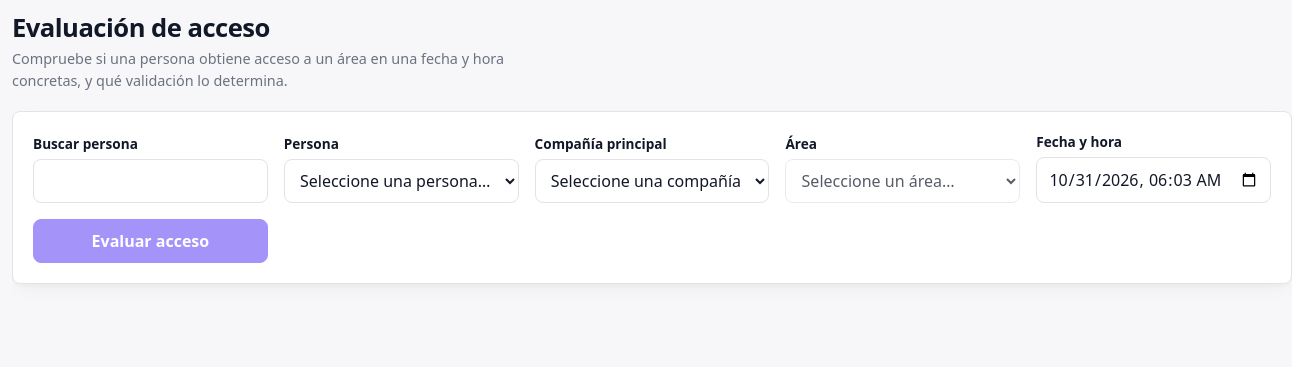
Scenario: EvaluacionAccesoPage › traduce el 404 del contrato a un mensaje que no revela si el recurso existe
This screenshot has width=1292, height=367.
Select "Pérez, Ana — 12345678" in the dropdown labelled "Persona" at (401, 181), box [284, 159, 519, 203]
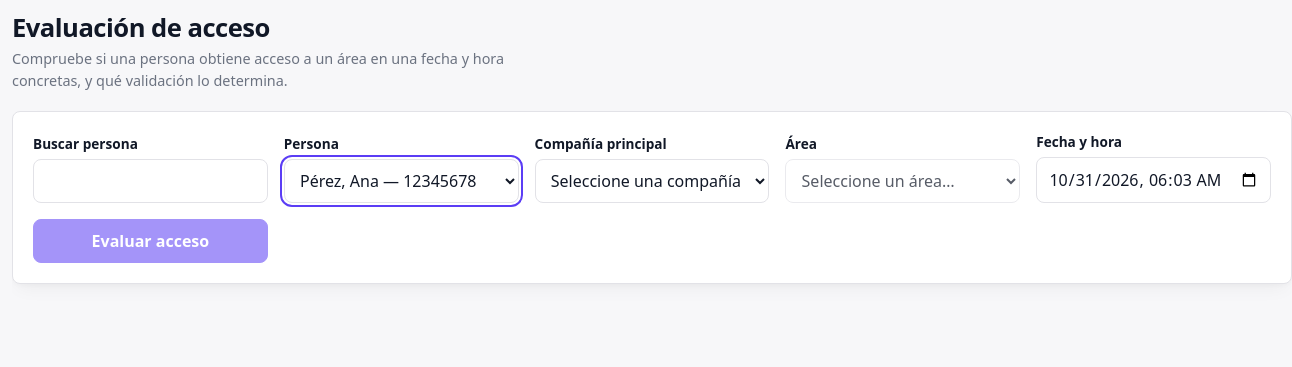
Select "Minera Norte" in the dropdown labelled "Compañía principal" at (652, 181), box [535, 159, 769, 203]
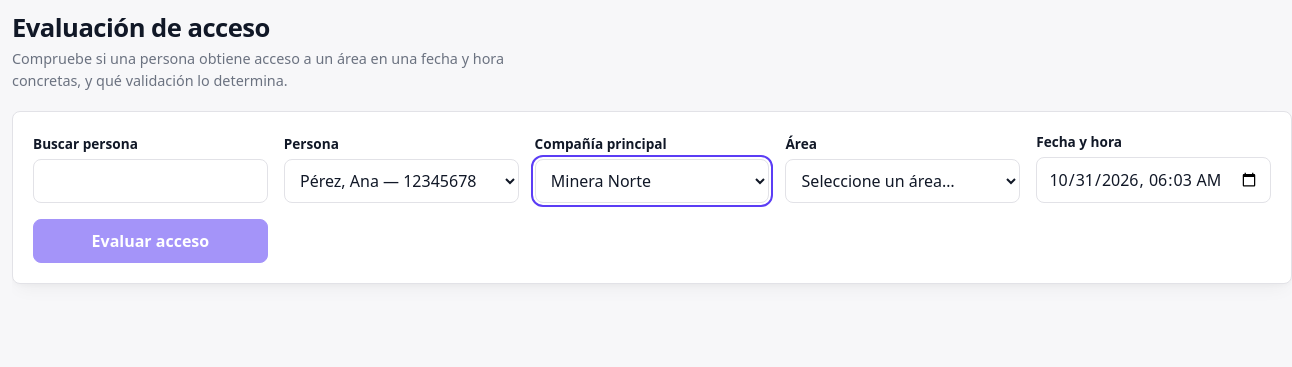
Select "Planta" in the dropdown labelled "Área" at (903, 181), box [785, 159, 1020, 203]
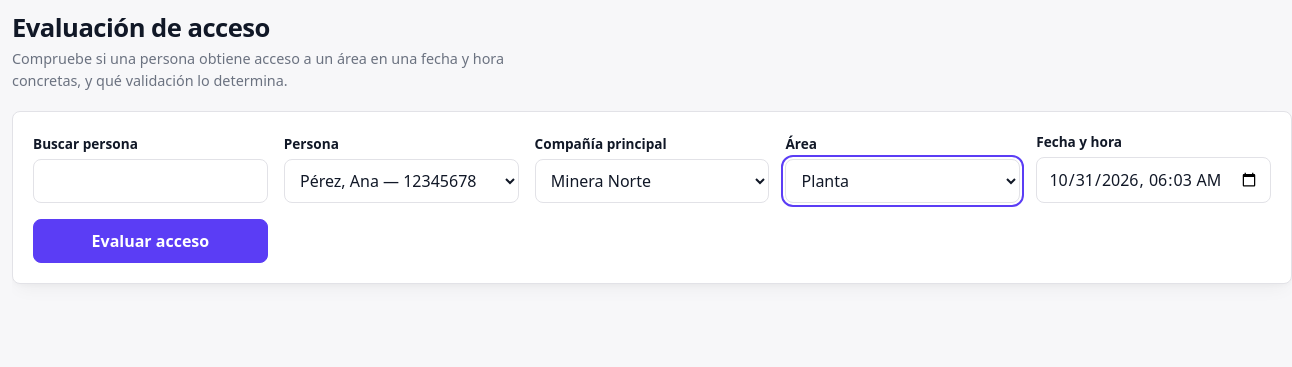
Replace the text in the field labelled "Fecha y hora" with "2026-09-16T09:00" at (1154, 180), box [1036, 157, 1271, 203]
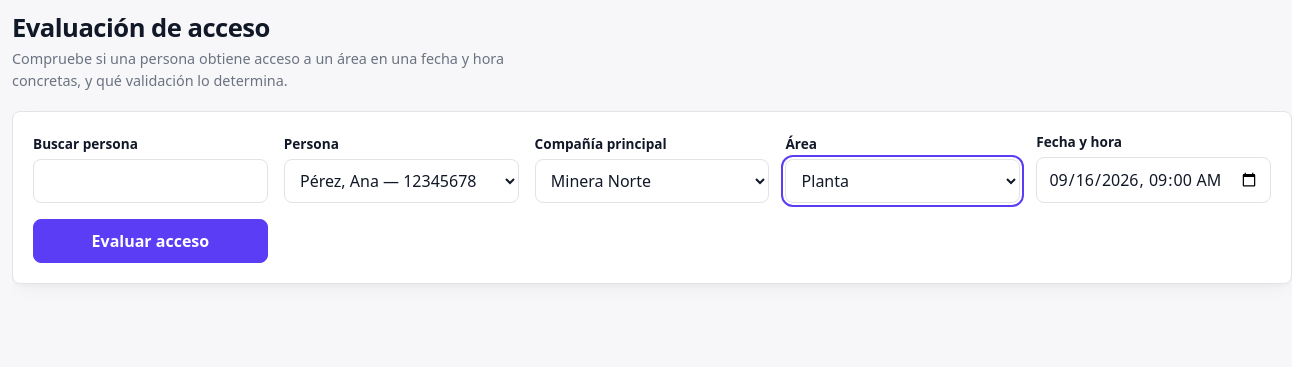
Click the button "Evaluar acceso" at (150, 241), box [33, 219, 268, 263]
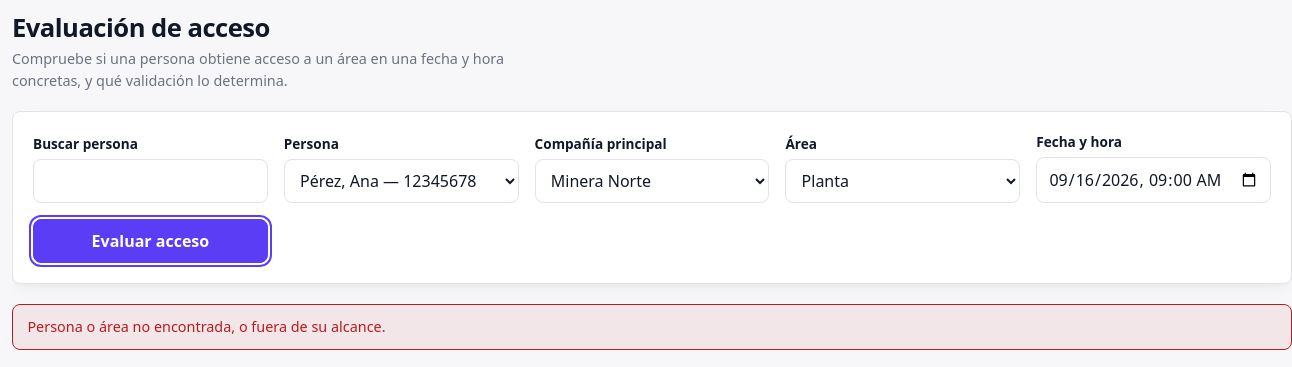
expect the message reads "Persona o área no encontrada, o fuera de su alcance.": met, box [27, 317, 386, 336]
